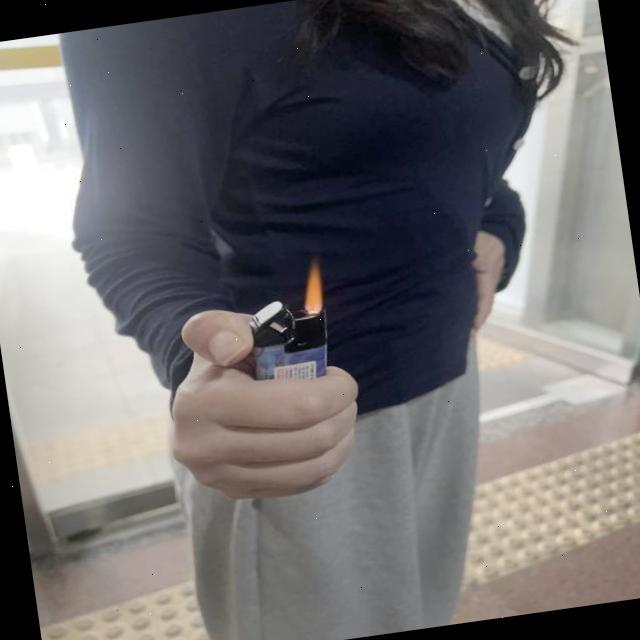fire: (297, 262, 326, 312)
